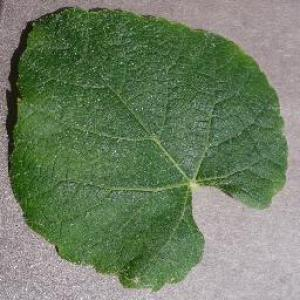Folha: (7, 5, 288, 292)
